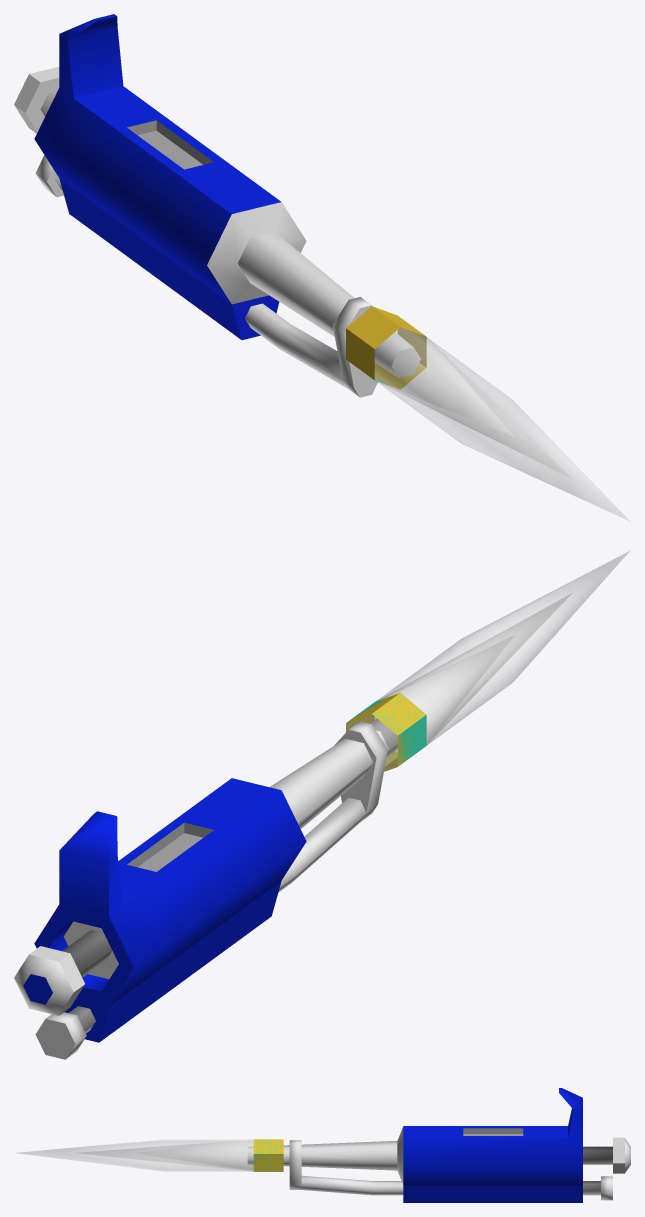
The model's file is ピペット.fbx.
3 views of the same model, one above another, from view 1: azimuth 30°, elevation 25°; view 2: azimuth 150°, elevation 25°; view 3: azimuth 270°, elevation 25° (orthographic). The views are drawn at different scales.
Parts seen in each view (by area): view 1: body, 10ml, 1ml, 0_2ml, inject, Cylinder; view 2: body, 10ml, inject, 1ml, 0_2ml, Cylinder; view 3: body, 10ml, 1ml, 0_2ml, inject, Cylinder.
Part boxes in pixels (left/top/right/bottom): body: left=34, top=14, right=420, bottom=377; 10ml: left=346, top=328, right=630, bottom=521; 1ml: left=375, top=328, right=571, bottom=478; 0_2ml: left=346, top=306, right=514, bottom=436; inject: left=35, top=155, right=377, bottom=397; Cylinder: left=14, top=66, right=59, bottom=133; body: left=34, top=718, right=397, bottom=1042; 10ml: left=346, top=551, right=629, bottom=766; inject: left=35, top=721, right=387, bottom=1059; 1ml: left=346, top=593, right=571, bottom=770; 0_2ml: left=346, top=635, right=514, bottom=771; Cylinder: left=14, top=930, right=112, bottom=1015; body: left=247, top=1088, right=582, bottom=1202; 10ml: left=18, top=1139, right=283, bottom=1171; 1ml: left=79, top=1140, right=252, bottom=1171; 0_2ml: left=137, top=1139, right=283, bottom=1171; inject: left=289, top=1140, right=612, bottom=1200; Cylinder: left=583, top=1137, right=630, bottom=1173.
Bounding box in the file's own units: 2 × 4 × 20.61.
